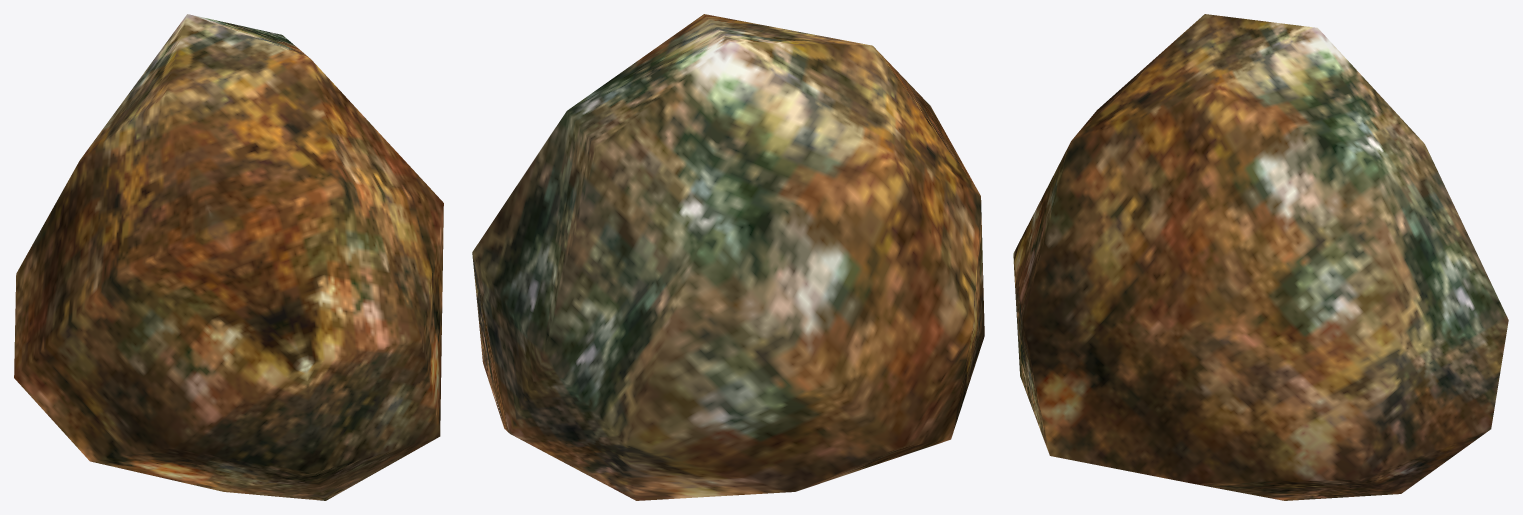
File: c_stone16.glb
3 renders of one model, left to right at view 1: azimuth 30°, elevation 25°; view 2: azimuth 150°, elevation 25°; view 3: azimuth 270°, elevation 25°, orthographic. The views are drawn at different scales.
Visible parts, largest first — view 1: c_stone16; view 2: c_stone16; view 3: c_stone16.
Part boxes in pixels (left/top/right/bottom): c_stone16: left=14, top=14, right=443, bottom=500; c_stone16: left=472, top=14, right=984, bottom=500; c_stone16: left=1013, top=14, right=1508, bottom=500.
Bounding box in the file's own units: 0.3032 × 0.2991 × 0.3226.
1 material, 1 textured.
